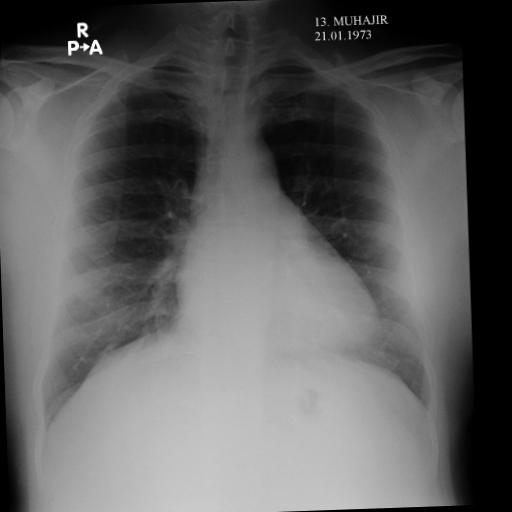kardiomegali: (20, 22, 440, 438)
